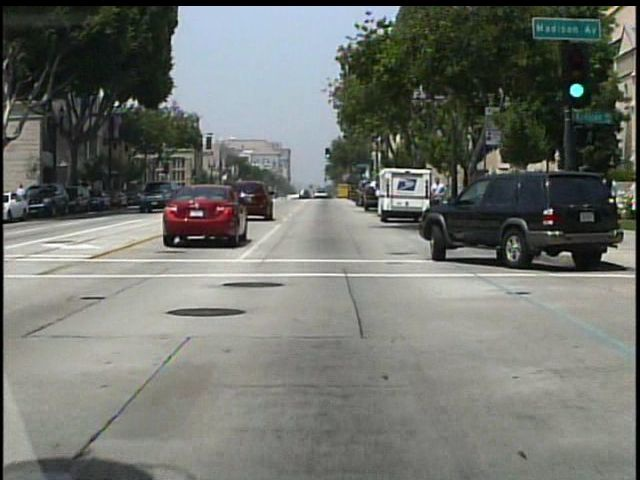person: (427, 175, 448, 222), (351, 182, 365, 210), (17, 181, 29, 209)
